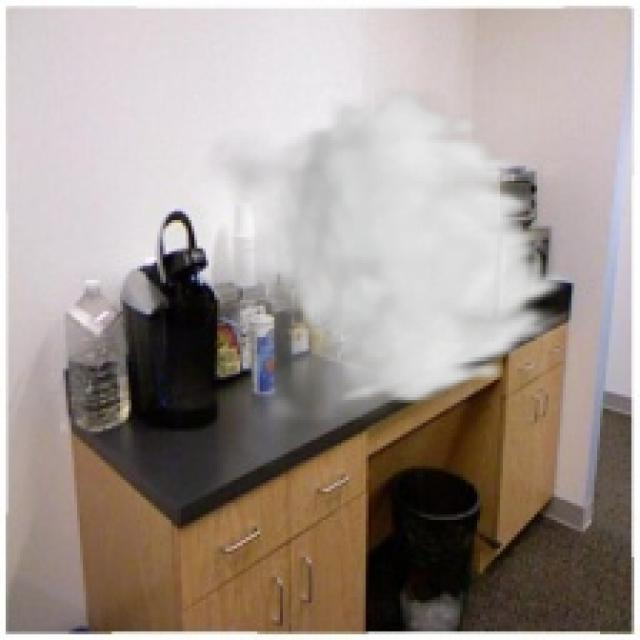Smoke: (197, 82, 574, 474)
